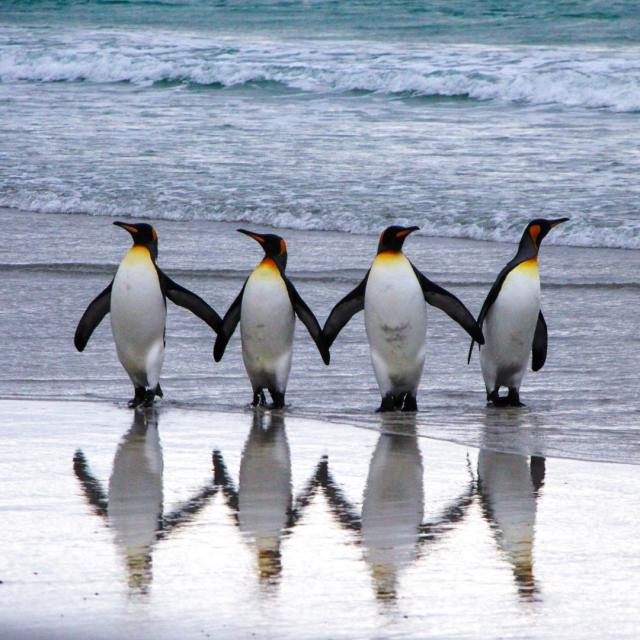Penguins: (470, 202, 567, 416), (351, 209, 437, 419), (94, 212, 178, 412), (230, 219, 308, 427)
